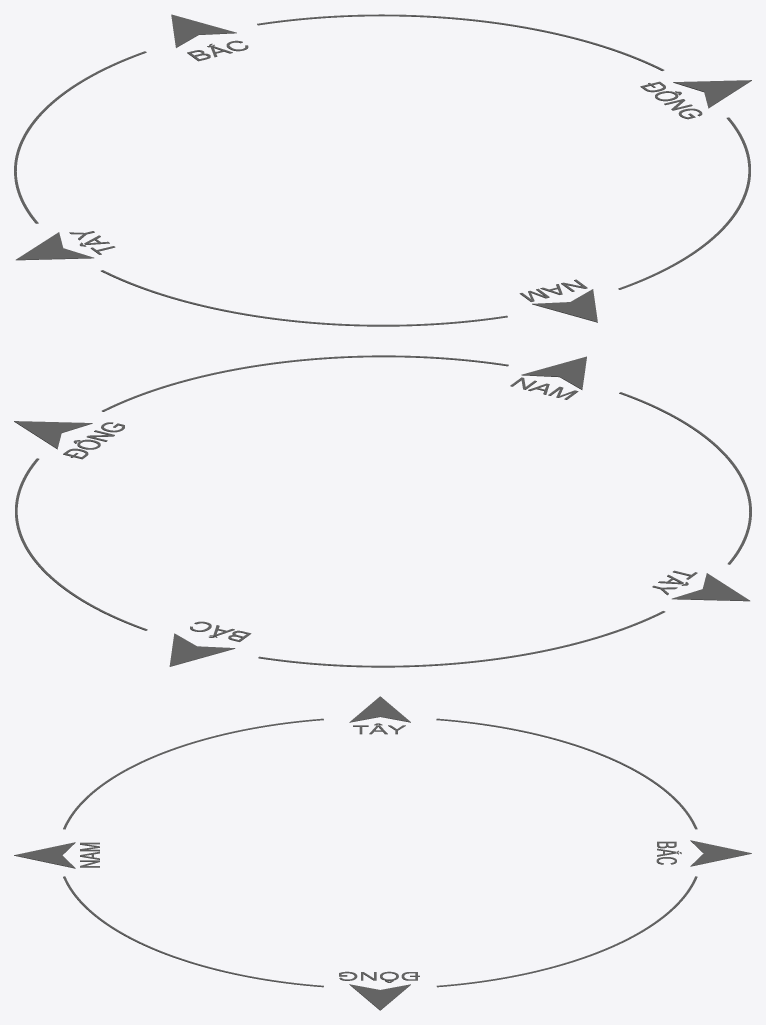
File: direction.glb
The picture shows the model from 3 angles, top to bottom: view 1: azimuth 30°, elevation 25°; view 2: azimuth 150°, elevation 25°; view 3: azimuth 270°, elevation 25°; orthographic projection. The views are drawn at different scales.
Visible parts, largest first — view 1: bake_bedroom_texture_scene_Direction; view 2: bake_bedroom_texture_scene_Direction; view 3: bake_bedroom_texture_scene_Direction.
Part boxes in pixels (x1,y1,x2,y2): bake_bedroom_texture_scene_Direction: (14, 14, 751, 326); bake_bedroom_texture_scene_Direction: (14, 355, 751, 667); bake_bedroom_texture_scene_Direction: (14, 696, 751, 1010).
Size of the model in its own units: 6.02 by 0.005 by 5.98.
Materials: 1 (1 with a texture image).
